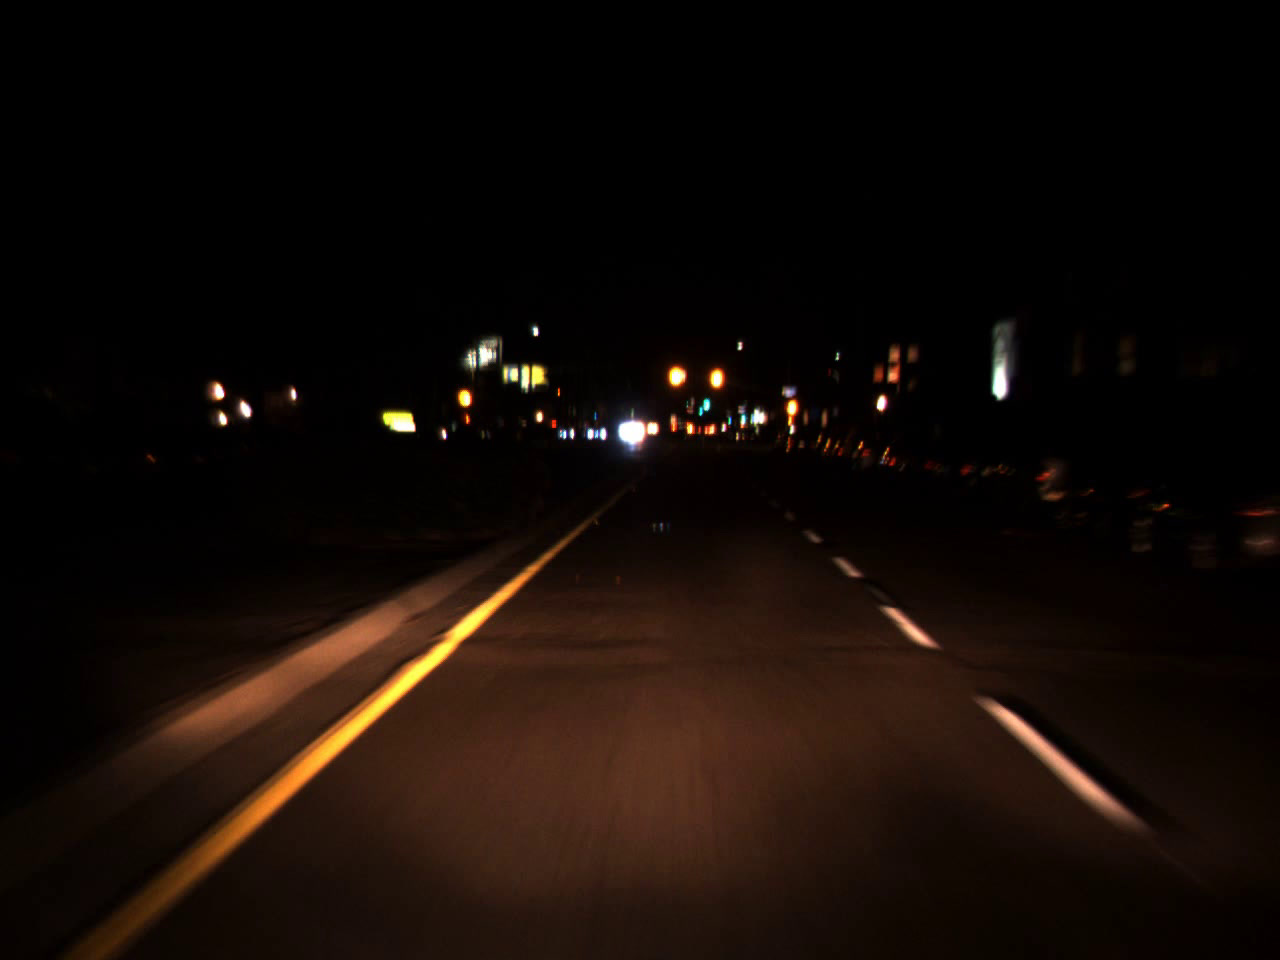go: (700, 391, 710, 409), (739, 403, 746, 427), (726, 408, 733, 426)
warning: (665, 350, 689, 400), (707, 353, 726, 400), (455, 375, 474, 419), (783, 389, 801, 421)
